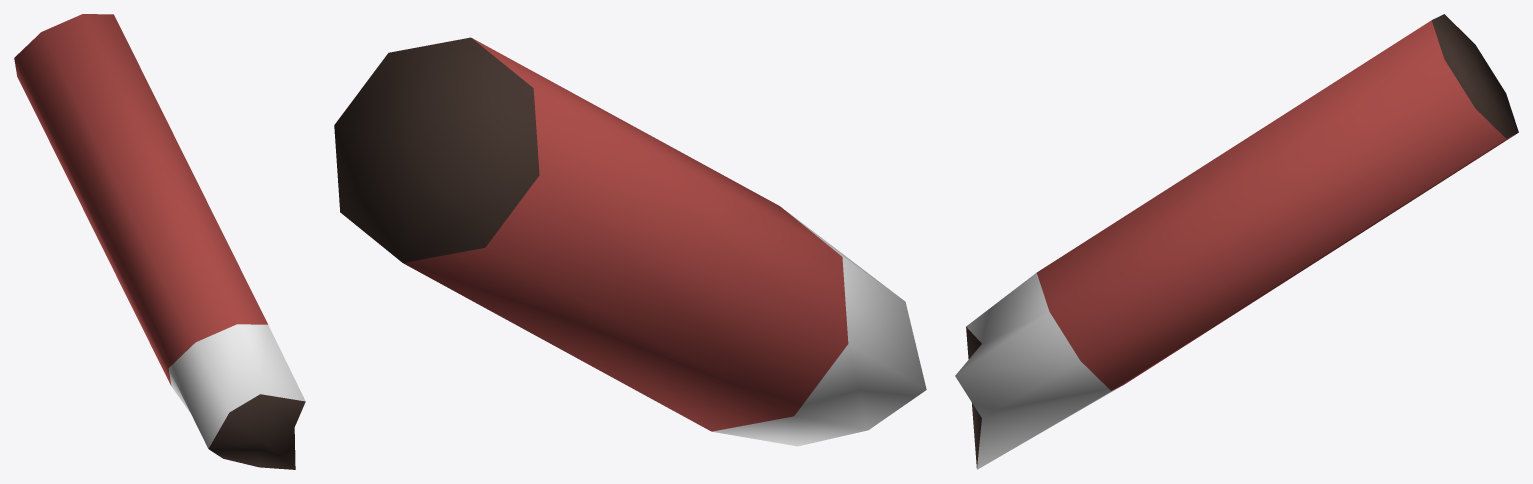
The model's file is cigar3.glb.
3 views of the same model, side by side, from view 1: azimuth 30°, elevation 25°; view 2: azimuth 150°, elevation 25°; view 3: azimuth 270°, elevation 25° (orthographic). The views are drawn at different scales.
Visible parts, largest first — view 1: prop_cigar.c; view 2: prop_cigar.c; view 3: prop_cigar.c.
Boxes of the visible parts, x1,y1,x2,y2 form: prop_cigar.c: [14, 14, 305, 469]; prop_cigar.c: [334, 37, 926, 446]; prop_cigar.c: [955, 14, 1518, 469].
Bounding box in the file's own units: 0.0119 × 0.037 × 0.0442.
